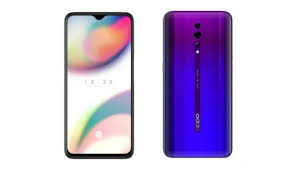oppo: (159, 8, 237, 158)
